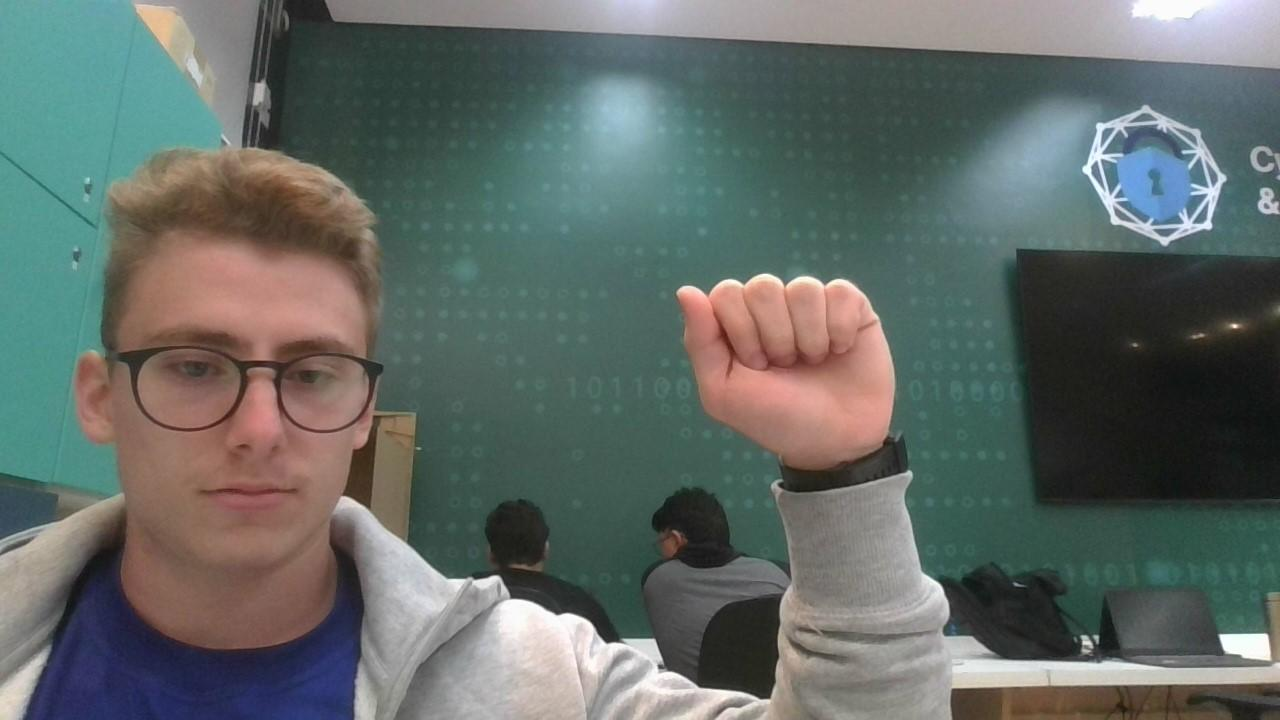A: (662, 258, 968, 516)
